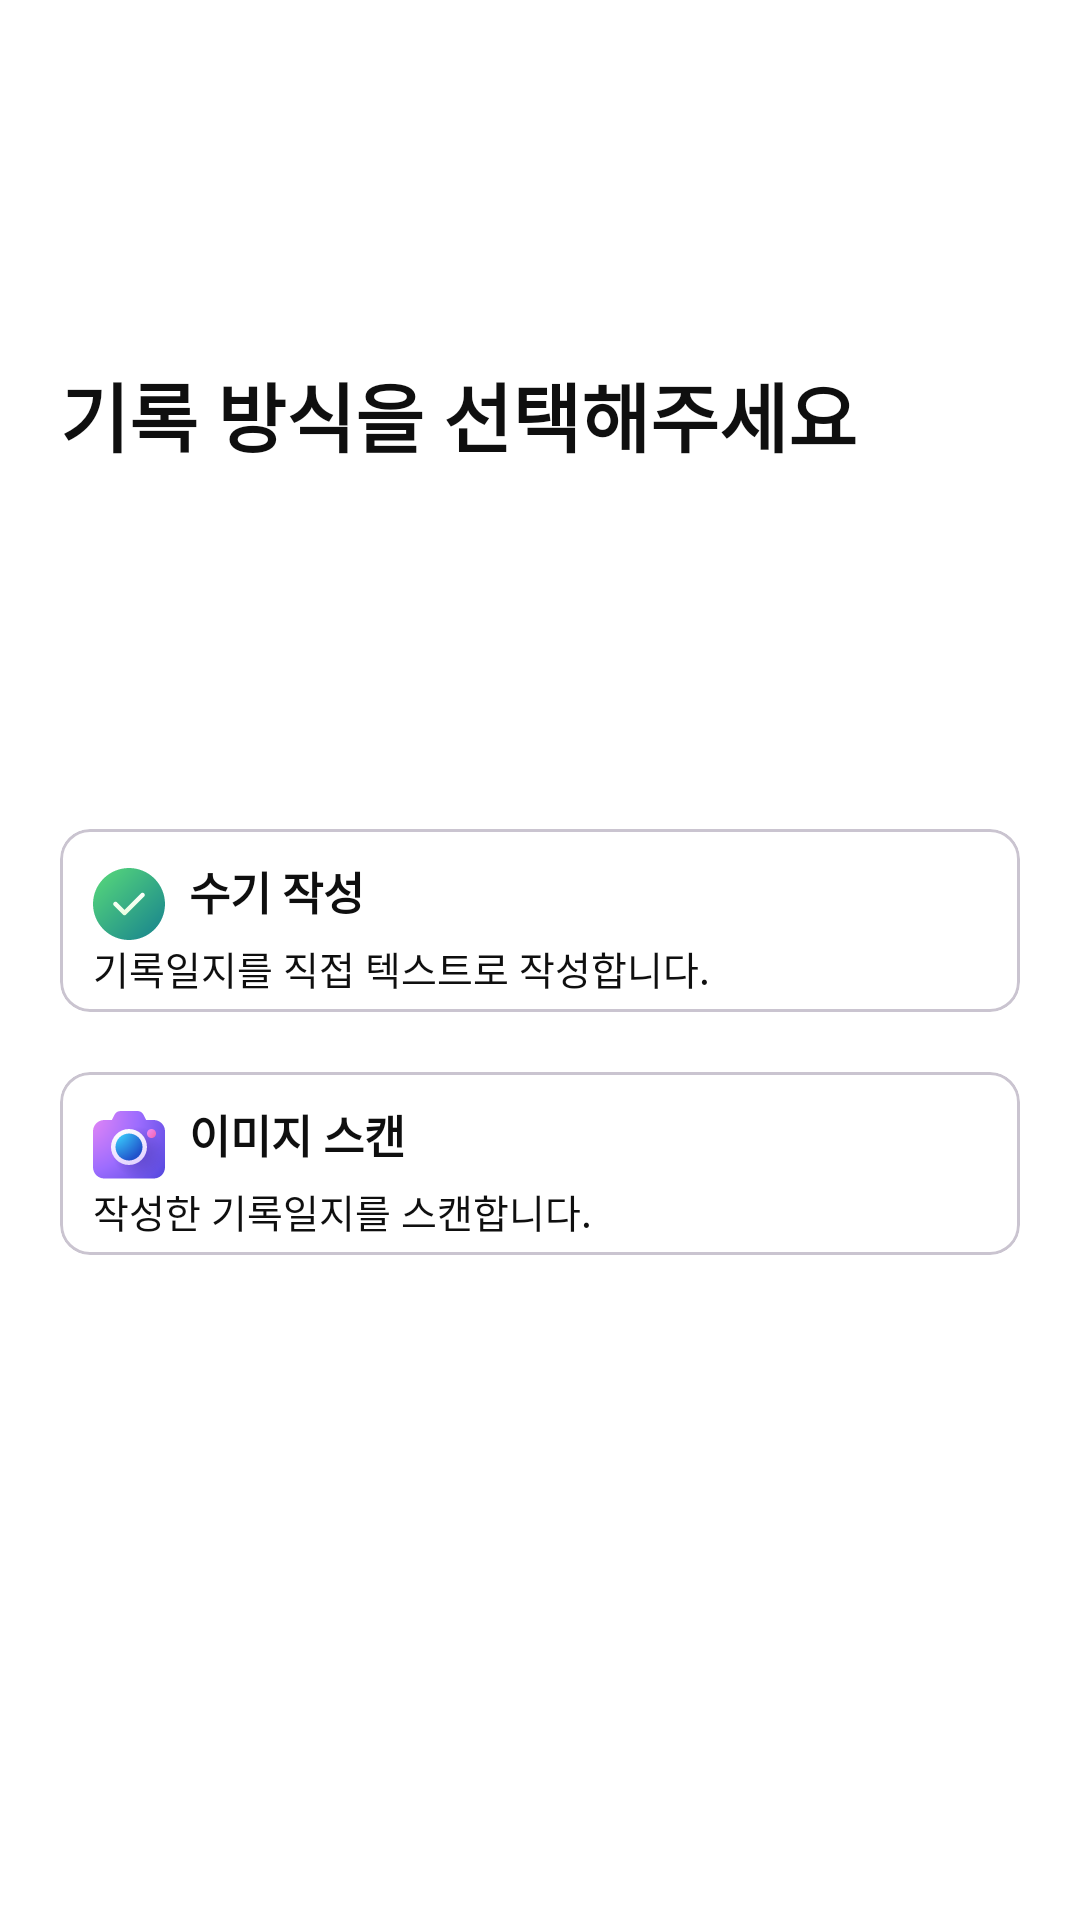

Named icons in this screenshot (1080w x 1920h) and their bounding boxes, (x1, y1, x2, y2):
camera scan sv: (93, 1111, 165, 1179)
